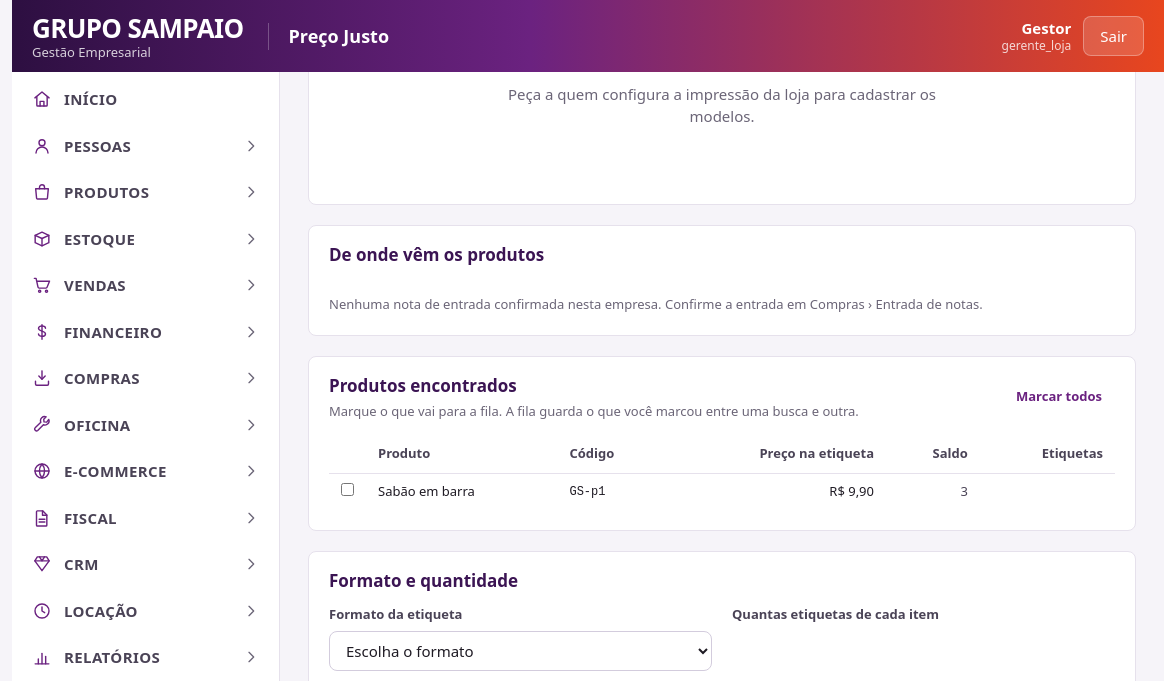
gerar a folha › sem formato escolhido, "Gerar folha" fica travado e diz por quê (C-etiquetas-19)
The image size is (1164, 681).
(page scrolled)
Click the checkbox named "Selecionar Sabão em barra" at coordinates (348, 490), box [341, 483, 354, 496]
(page scrolled)
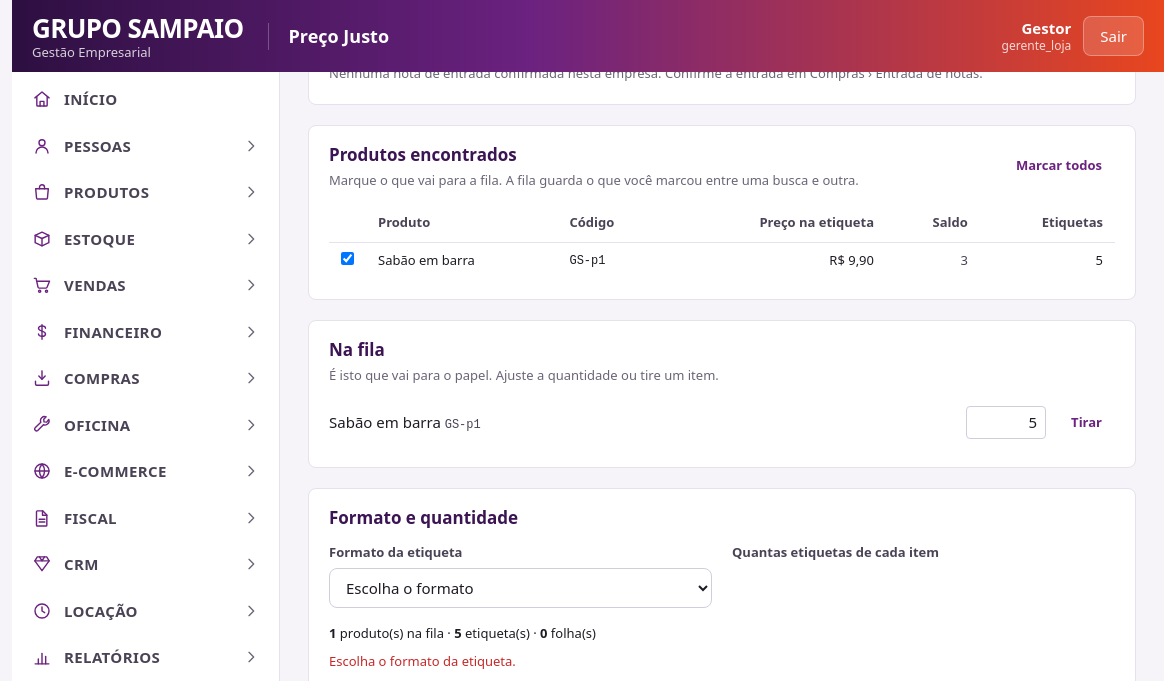
Check: the dropdown labelled "Formato da etiqueta" shows "Escolha o formato", box [329, 568, 712, 608]
Check: the text with test id "motivo-para-nao-gerar" shows "Escolha o formato", box [329, 652, 516, 670]
